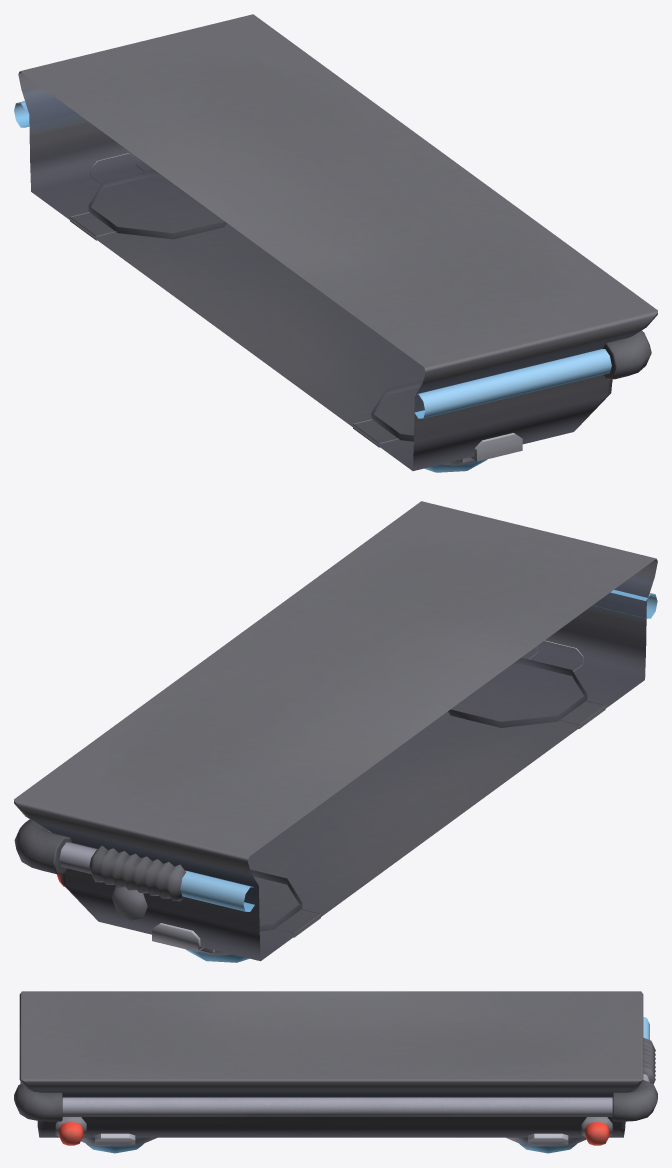
Rendered from Space_MovingPlatRight_Horiz.fbx.
3 views of the same model, one above another, from view 1: azimuth 30°, elevation 25°; view 2: azimuth 150°, elevation 25°; view 3: azimuth 270°, elevation 25° (orthographic). The views are drawn at different scales.
Parts seen in each view (by area): view 1: polySurface744; view 2: polySurface744; view 3: polySurface744.
Part boxes in pixels (x1=…): polySurface744: x1=14, y1=14, x2=657, y2=472; polySurface744: x1=14, y1=501, x2=657, y2=962; polySurface744: x1=14, y1=991, x2=657, y2=1153.
Size of the model in its own units: 102 by 66.88 by 312.
